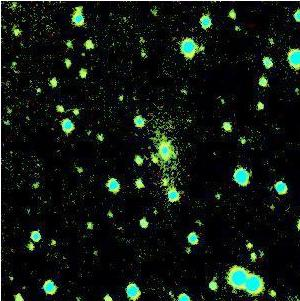star: (139, 151, 169, 181)
